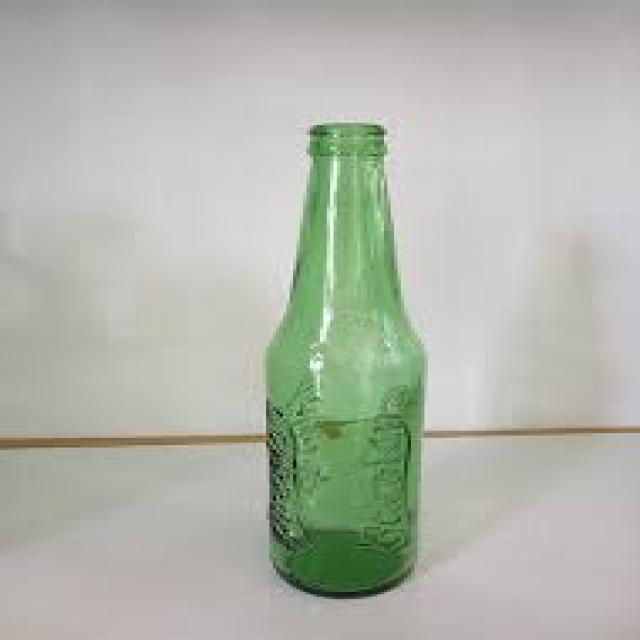glass: (263, 123, 424, 599)
